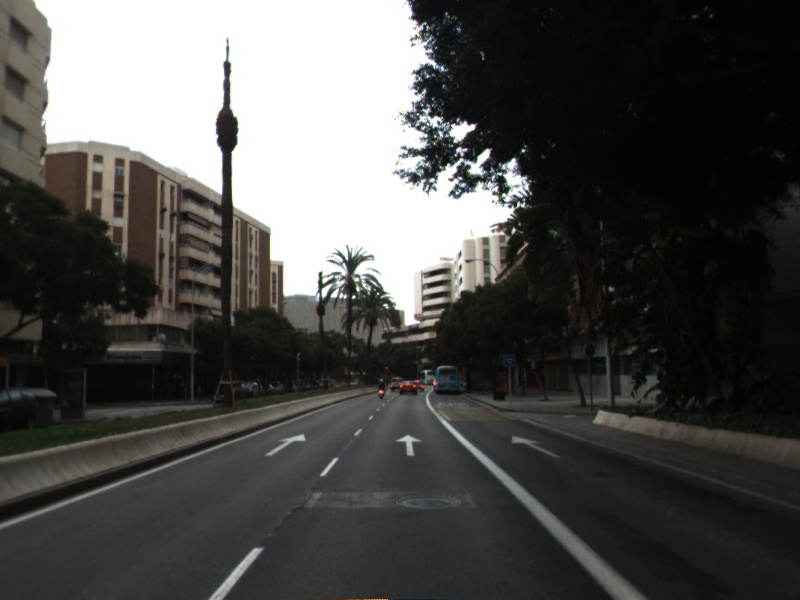STRAIGHT: (510, 434, 563, 459), (263, 432, 308, 458), (394, 432, 424, 458)
